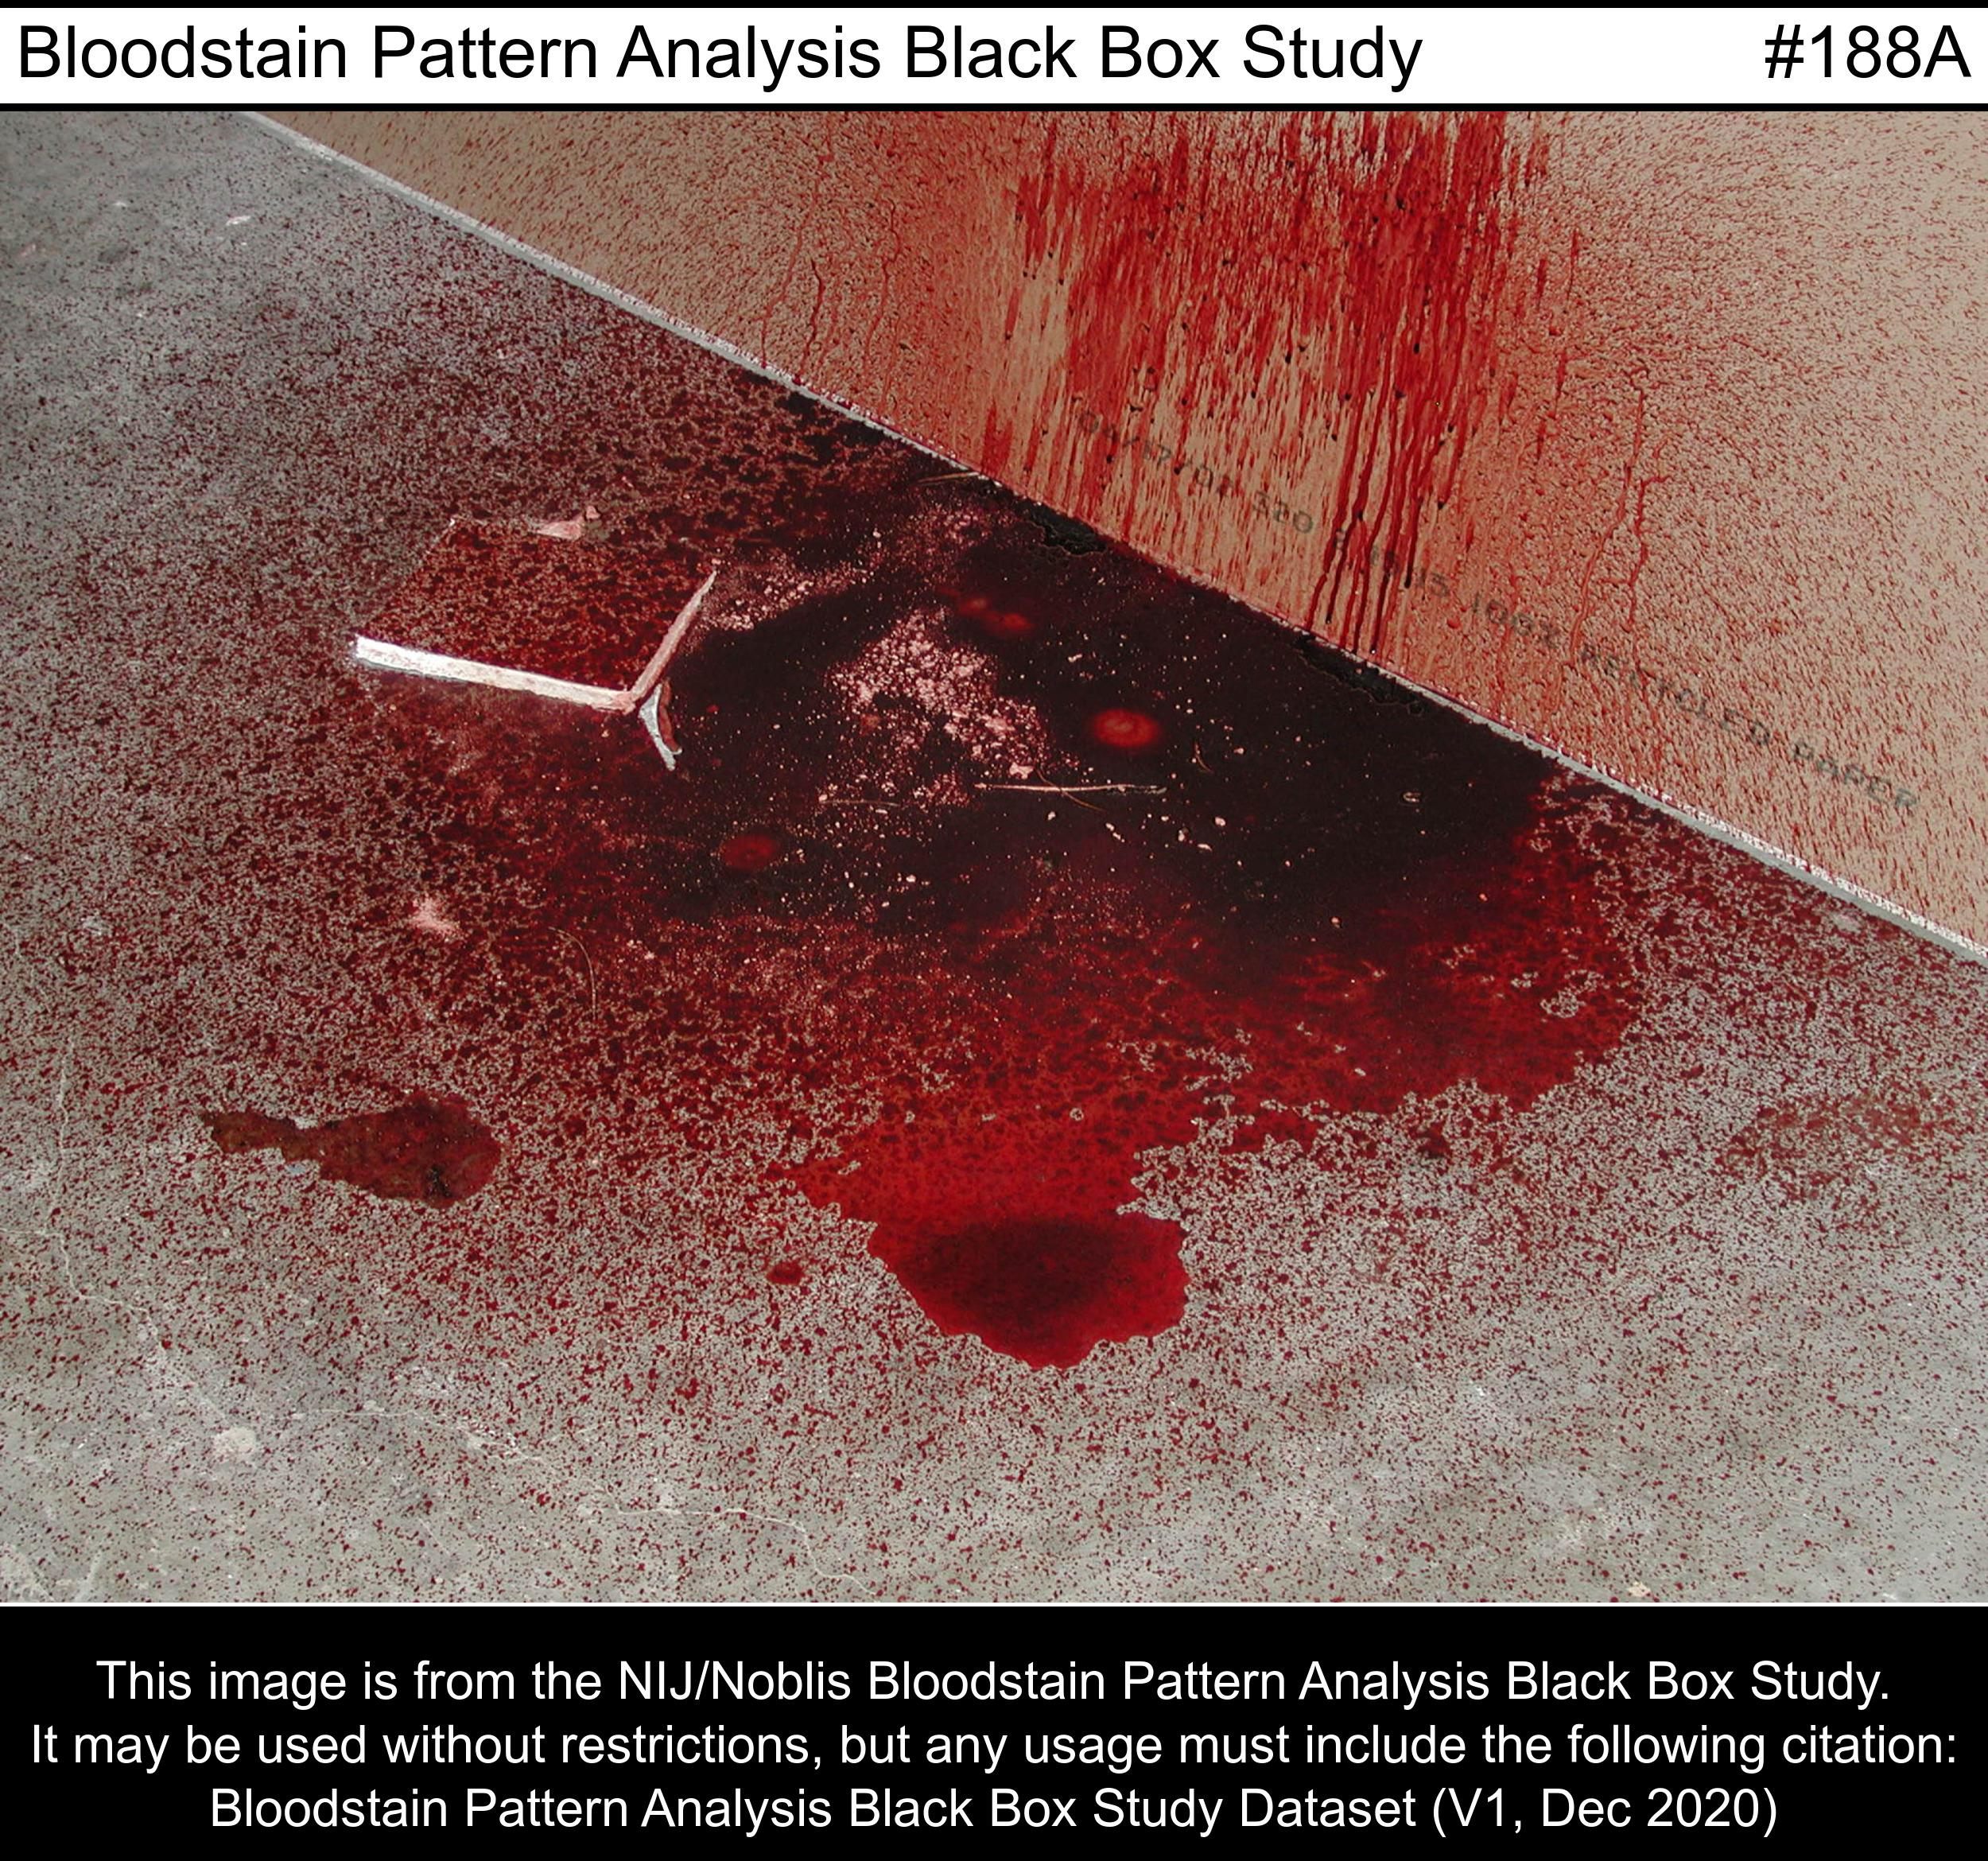Passive: (93, 533, 1659, 1359), (764, 128, 1810, 495)
